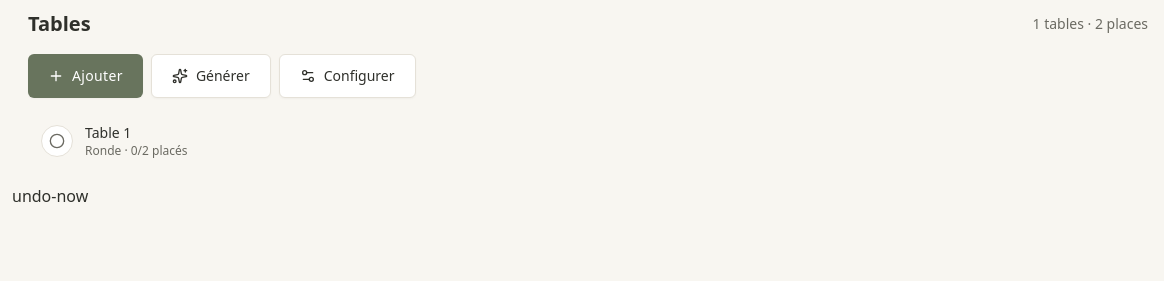
Scenario: TablesPanel generation › shows an error when the engine rejects the plan
Click the button "Générer".
click(211, 76)  # box [151,54,271,98]
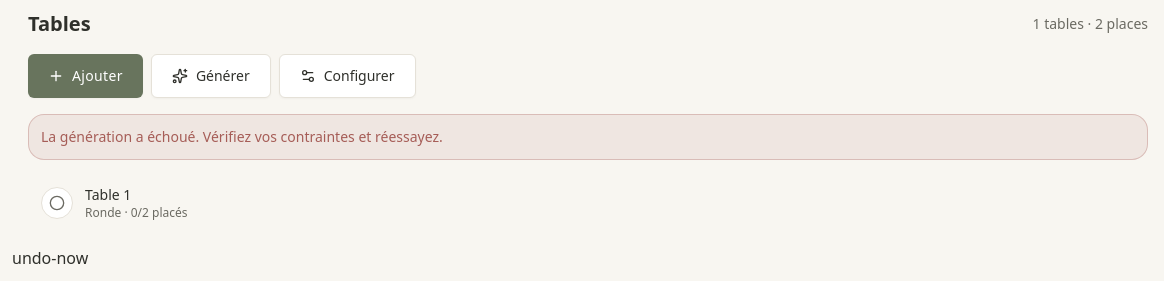
Now the message shows "La génération a échoué", box [41,127,443,146]
